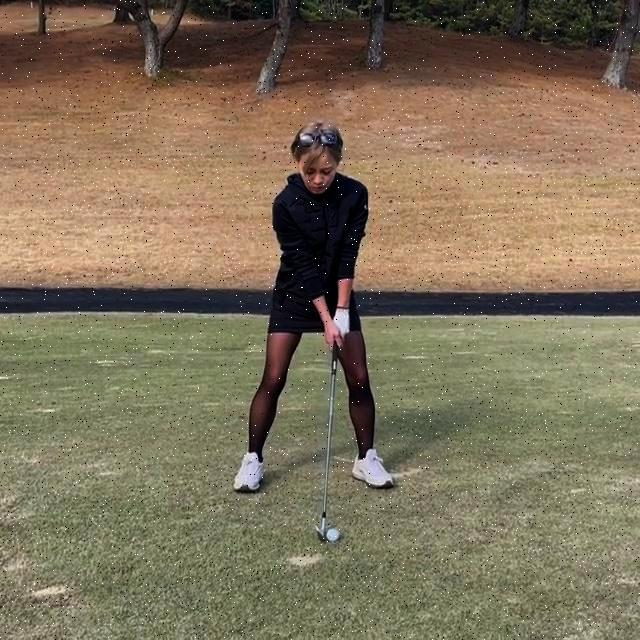ClubHandle: (315, 341, 338, 541)
ClubHead: (316, 526, 326, 541)
GolfBall: (327, 529, 339, 540)
